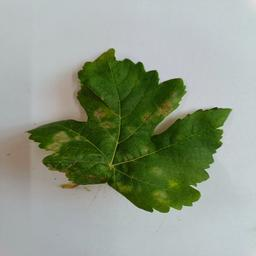Powdery-Mildew: (118, 144, 153, 192), (146, 163, 177, 208), (140, 90, 178, 121), (92, 104, 116, 136), (50, 130, 74, 153)
